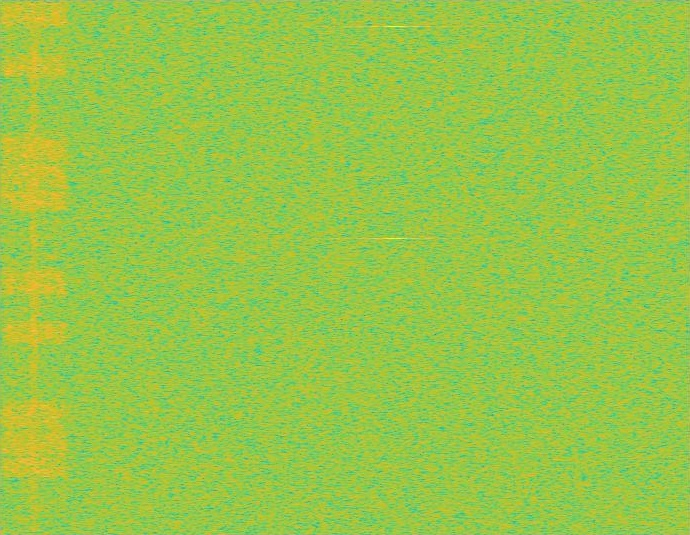DSSS: (30, 0, 39, 534)
LTE: (0, 0, 69, 534)
Radar: (388, 0, 402, 534)
